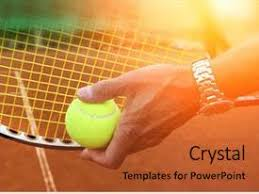tennis_ball: (65, 92, 123, 152)
